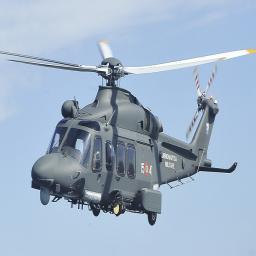helicopter: (1, 22, 256, 229)
